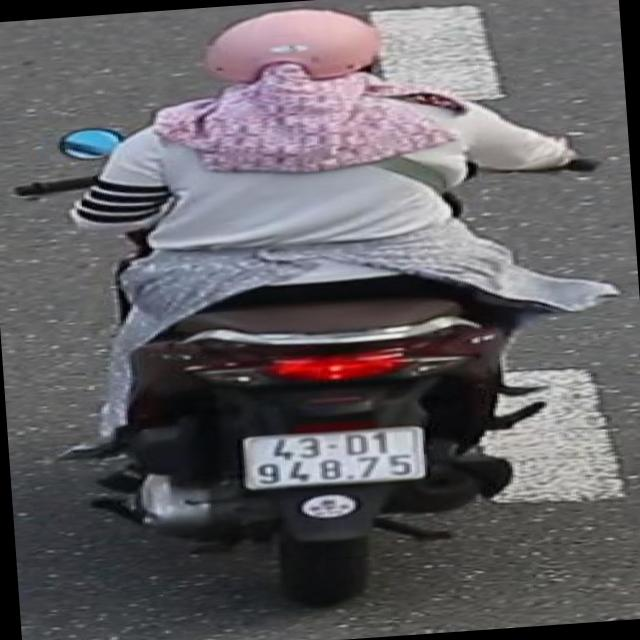LP: (236, 414, 438, 494)
helmet: (193, 0, 399, 101)
